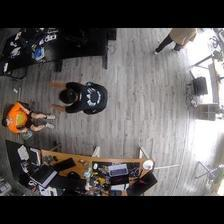normal: (48, 80, 110, 116), (1, 102, 55, 131), (154, 28, 200, 56)
